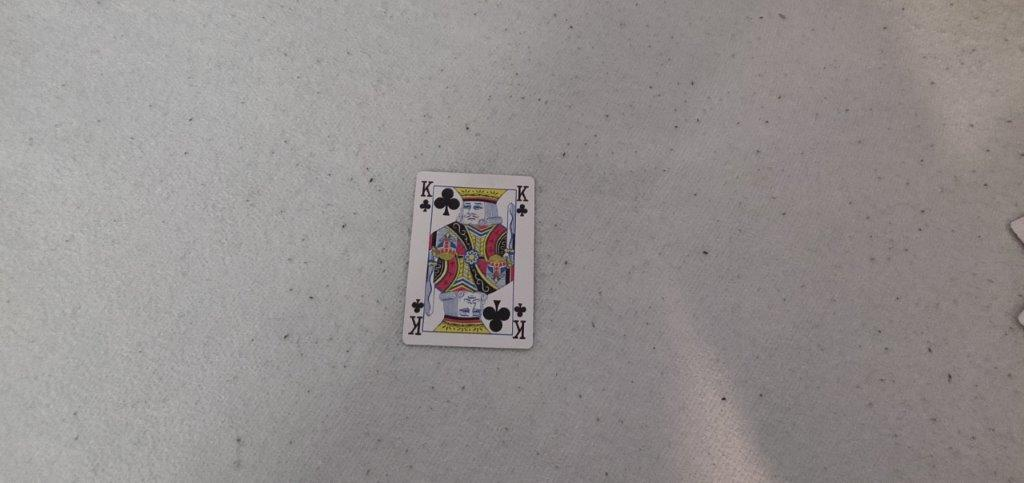KC: (416, 178, 435, 214), (514, 182, 531, 218)
